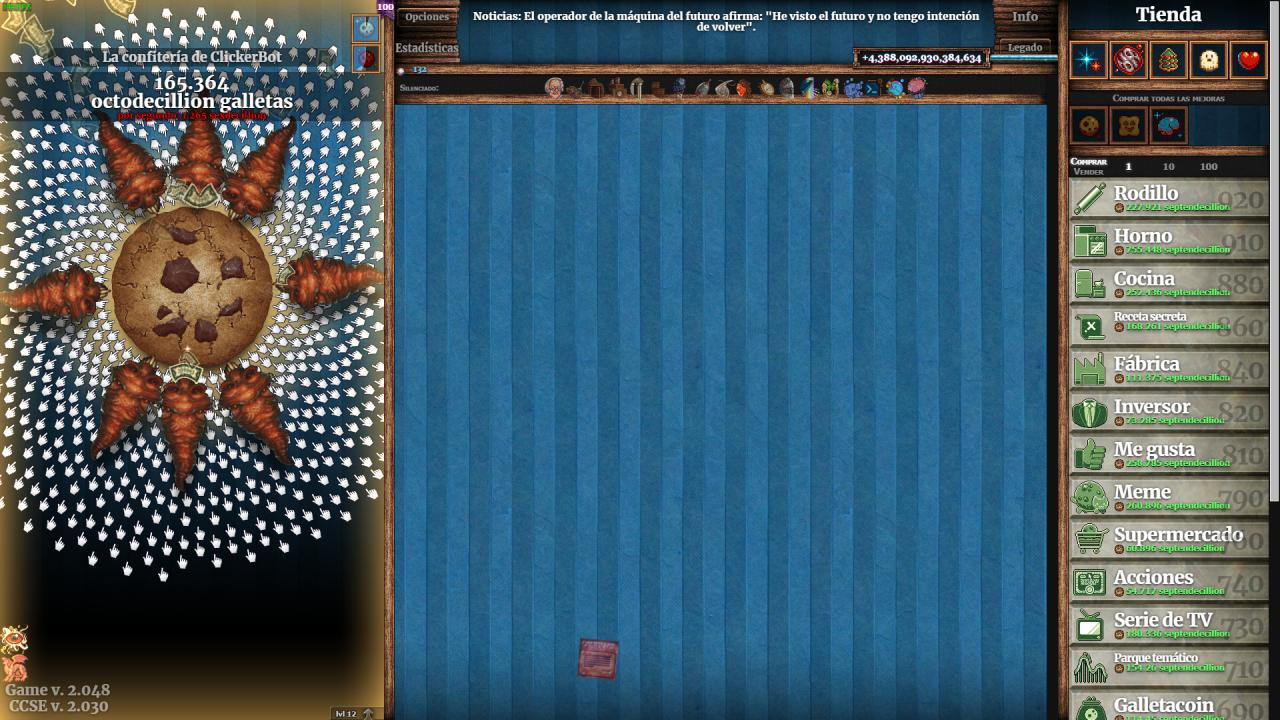RedCartridge: (576, 636, 622, 682)
